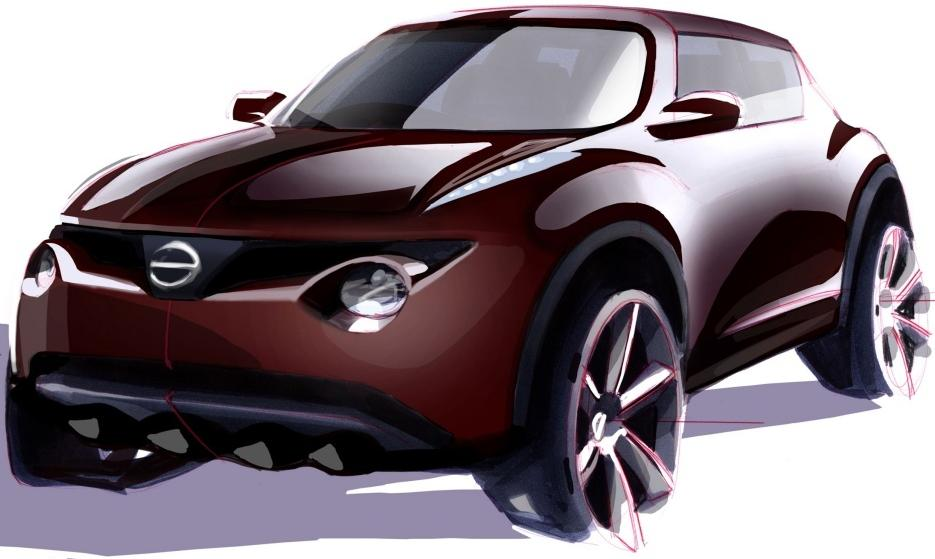front_view: (38, 185, 581, 516)
headlight: (285, 236, 422, 331)
side_glass: (646, 18, 825, 142)
